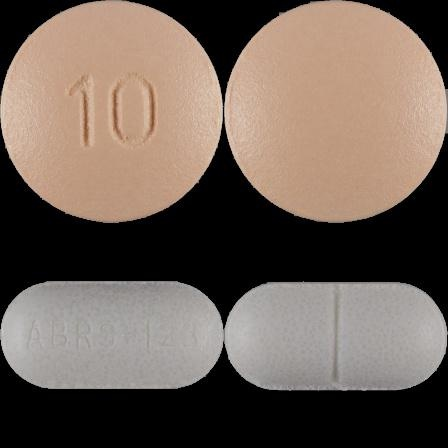60760-547: (0, 0, 224, 224)
